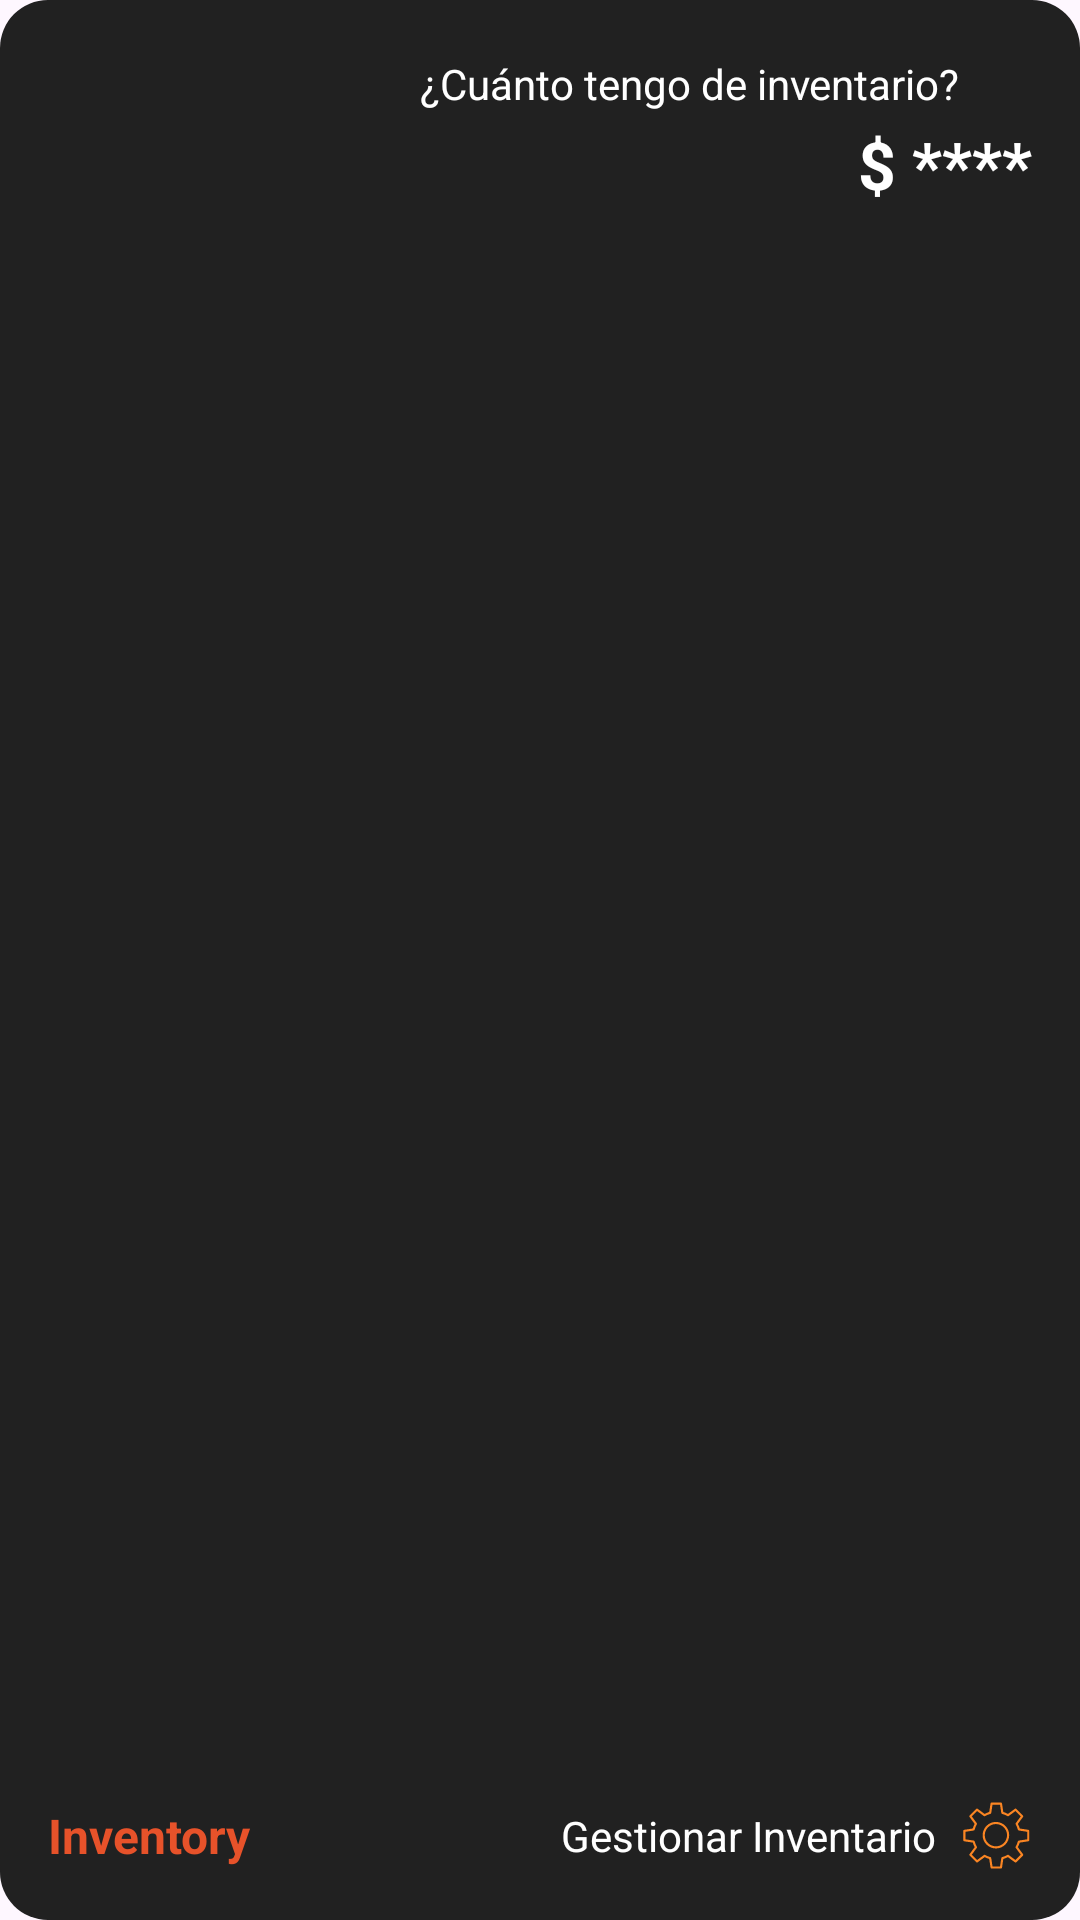

Locate icon controls on the screen. Image size 1080w x 1920h, boxes as (x1, y1, x2, y2).
settings: (963, 1802, 1030, 1869)
